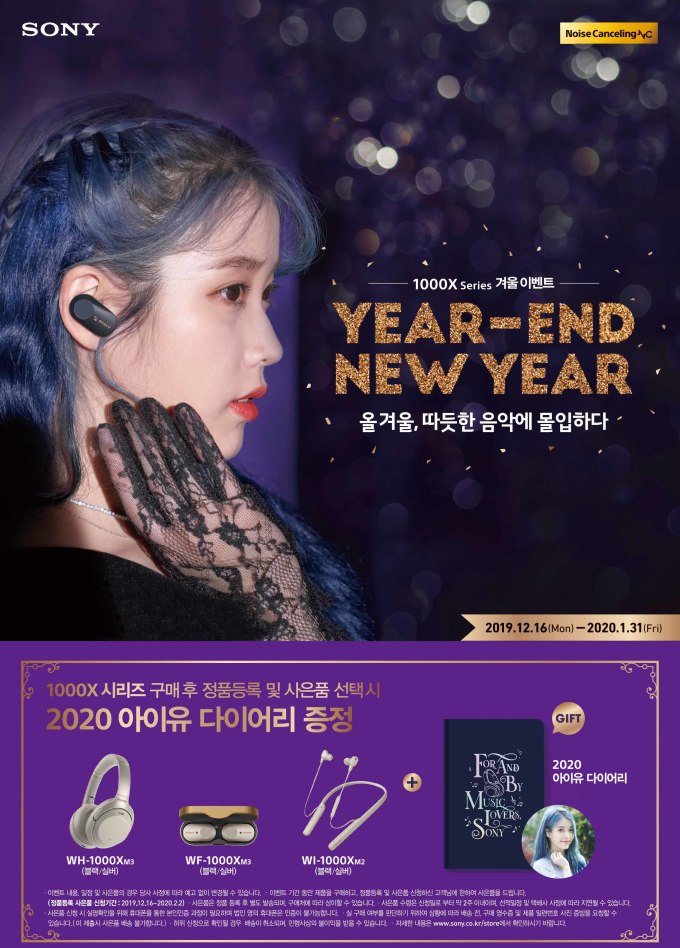earphone: (59, 265, 118, 352)
